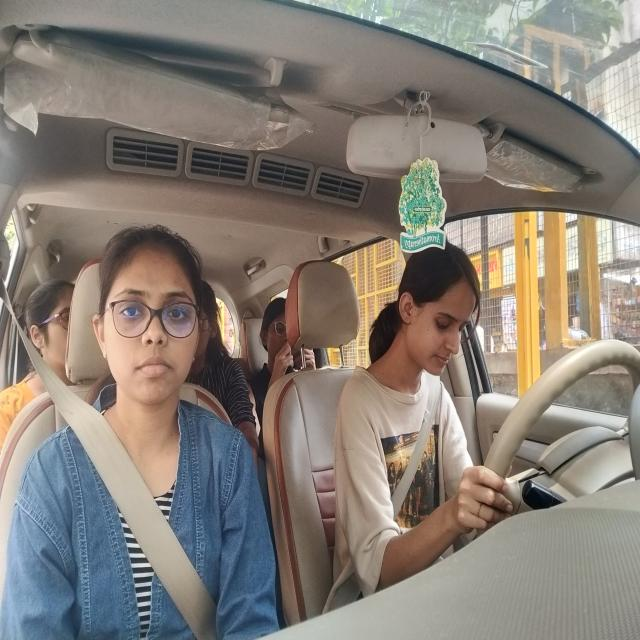person: (95, 220, 205, 408), (22, 270, 74, 372), (197, 279, 225, 376), (256, 296, 292, 371)
